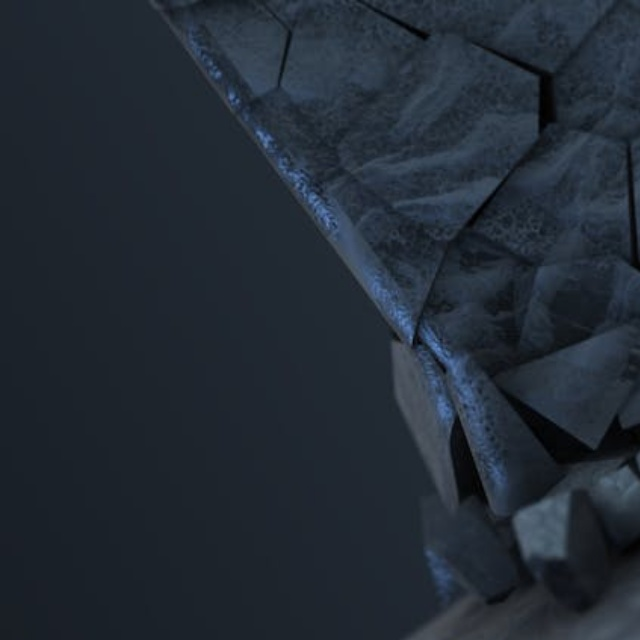网状裂隙: (190, 0, 640, 640)
